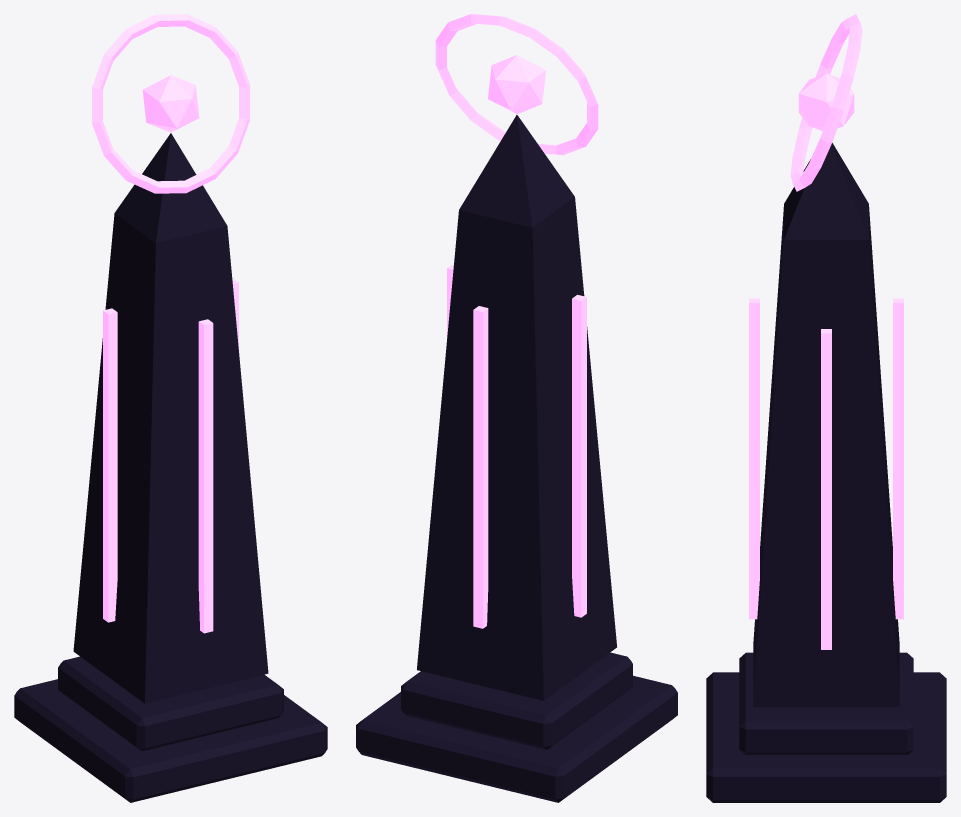
The model's file is void_obelisk.fbx.
3 renders of one model, left to right at view 1: azimuth 30°, elevation 25°; view 2: azimuth 150°, elevation 25°; view 3: azimuth 270°, elevation 25°, orthographic. The views are drawn at different scales.
Parts seen in each view (by area): view 1: Void_obelisk; view 2: Void_obelisk; view 3: Void_obelisk.
Part boxes in pixels (x1=…): Void_obelisk: x1=14, y1=14, x2=327, y2=802; Void_obelisk: x1=356, y1=14, x2=677, y2=802; Void_obelisk: x1=706, y1=14, x2=946, y2=802.
Size of the model in its own units: 2.2 by 7.4 by 2.2.
